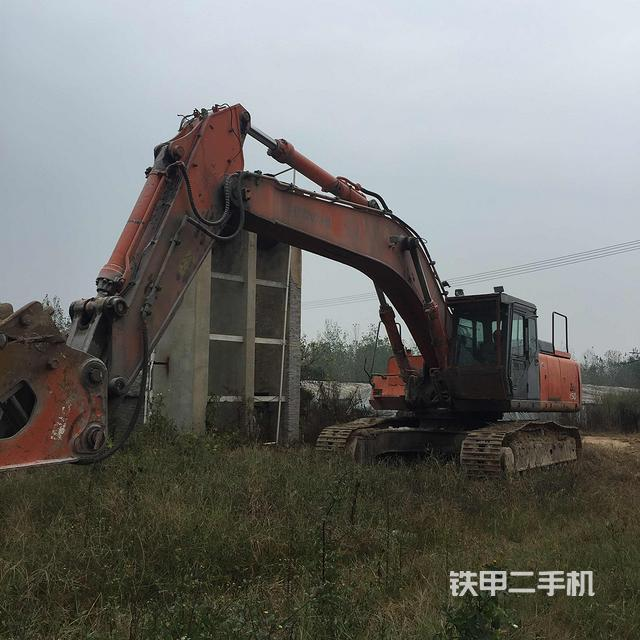excavator: (1, 95, 593, 490)
